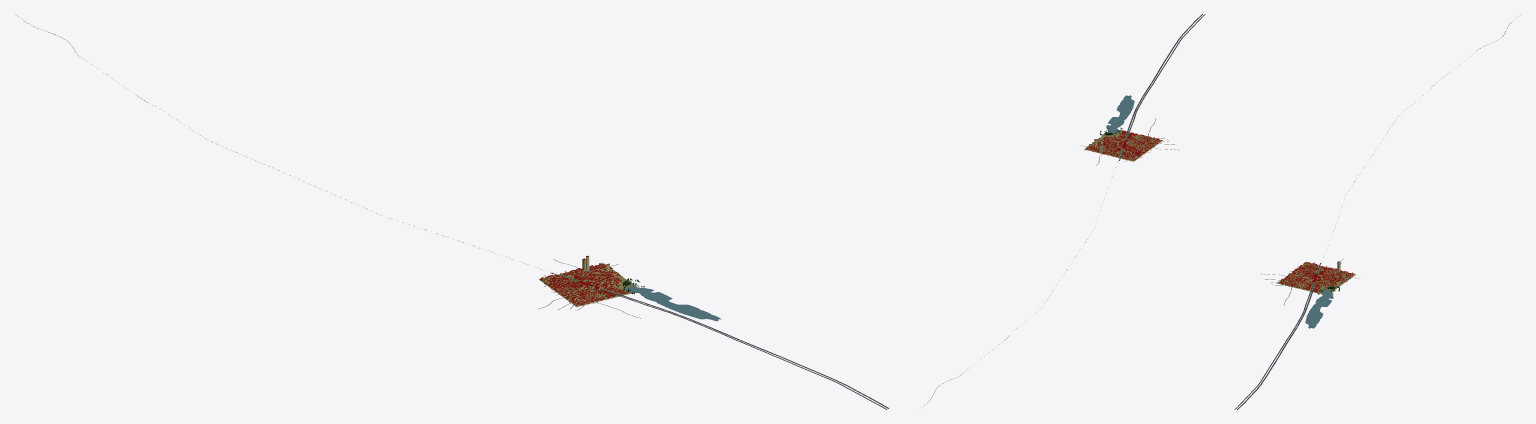
3 renders of one model, left to right at view 1: azimuth 30°, elevation 25°; view 2: azimuth 150°, elevation 25°; view 3: azimuth 330°, elevation 25°, orthographic. The views are drawn at different scales.
Parts seen in each view (by area): view 1: Water w223104209; view 2: Water w223104209; view 3: Water w223104209.
Part boxes in pixels (left/top/right/bottom): Water w223104209: left=625, top=285, right=721, bottom=321; Water w223104209: left=1106, top=95, right=1134, bottom=133; Water w223104209: left=1305, top=290, right=1333, bottom=328.
Size of the model in its own units: 2078 by 113 by 8888.
13 materials, 12 textured.
